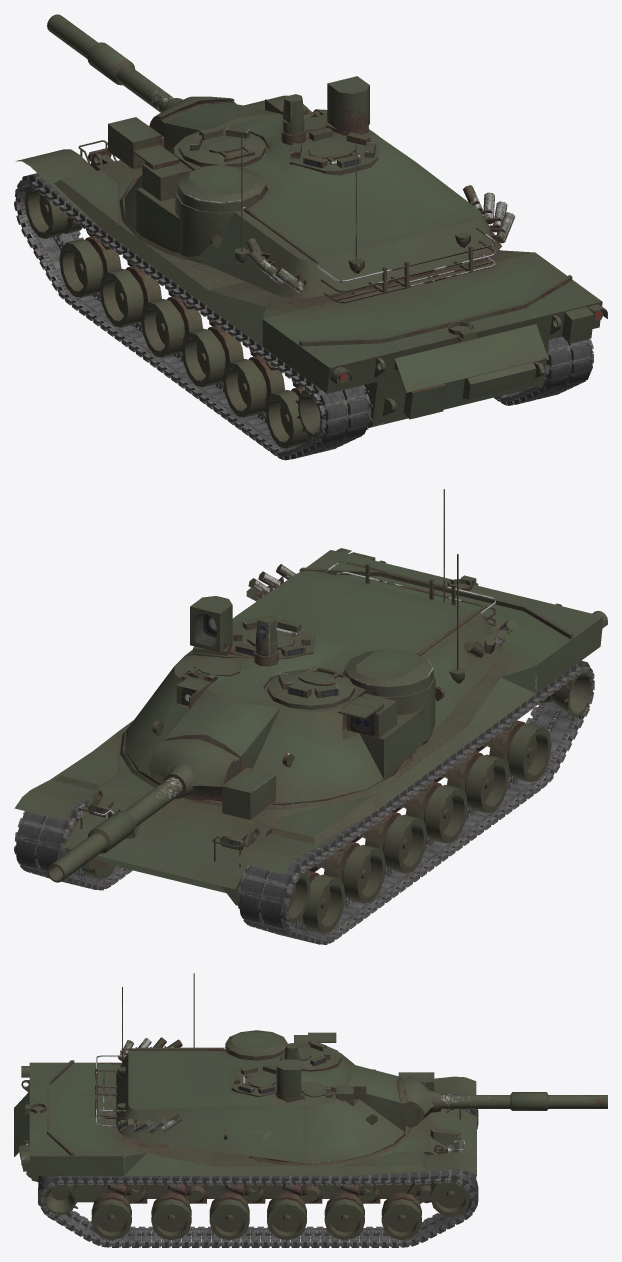
The model's file is mbt70.glb.
3 renders of one model, top to bottom at view 1: azimuth 30°, elevation 25°; view 2: azimuth 150°, elevation 25°; view 3: azimuth 270°, elevation 25°, orthographic. The views are drawn at different scales.
Visible parts, largest first — view 1: V_mbt70__Body_1, V_mbt70__Turret_1, V_mbt70__Body_2, V_mbt70__Gun_1; view 2: V_mbt70__Body_1, V_mbt70__Turret_1, V_mbt70__Body_2, V_mbt70__Gun_1, V_mbt70__Turret_2; view 3: V_mbt70__Body_1, V_mbt70__Turret_1, V_mbt70__Body_2, V_mbt70__Gun_1.
Part boxes in pixels (box(x1,y1,x2,y2)): V_mbt70__Body_1: box(15, 95, 607, 448); V_mbt70__Turret_1: box(124, 76, 515, 303); V_mbt70__Body_2: box(14, 173, 593, 460); V_mbt70__Gun_1: box(47, 14, 234, 169); V_mbt70__Body_1: box(14, 548, 607, 933); V_mbt70__Turret_1: box(125, 489, 516, 805); V_mbt70__Body_2: box(14, 660, 594, 944); V_mbt70__Gun_1: box(47, 739, 275, 882); V_mbt70__Turret_2: box(193, 613, 216, 646); V_mbt70__Body_1: box(14, 1060, 476, 1240); V_mbt70__Turret_1: box(95, 973, 417, 1164); V_mbt70__Body_2: box(38, 1093, 478, 1247); V_mbt70__Gun_1: box(398, 1072, 607, 1127).
Size of the model in its own units: 9.82 by 9.79 by 26.3.
Materials: 4 (4 with a texture image).
